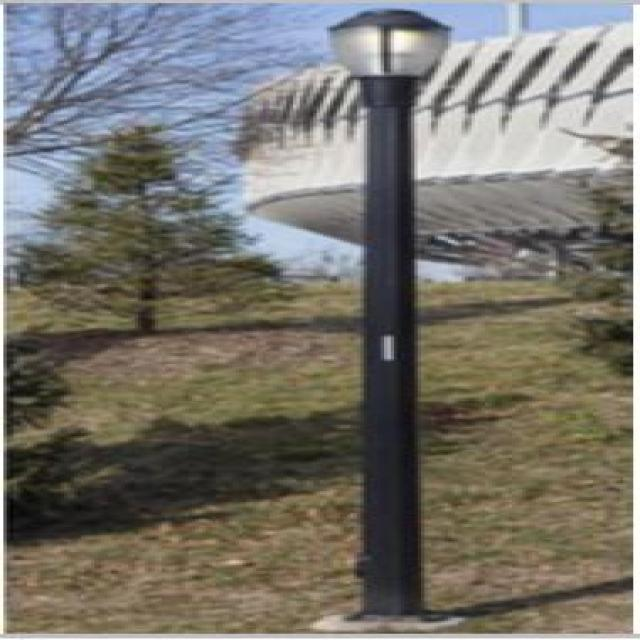off: (330, 0, 456, 124)
